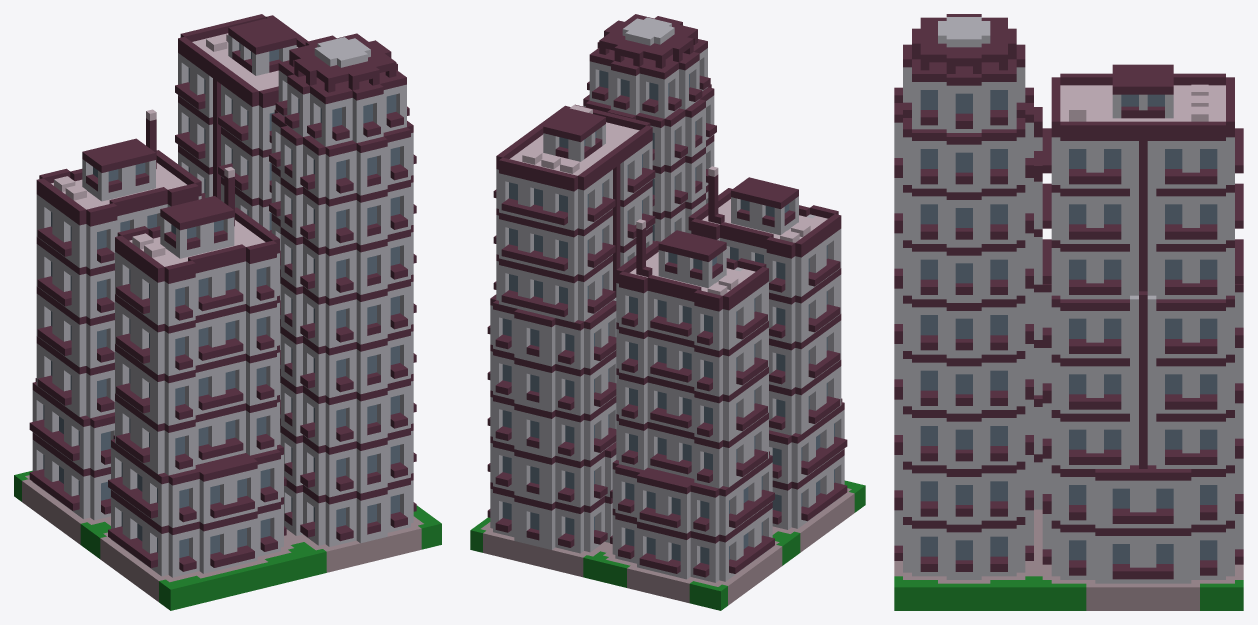
The model's file is CityBig.fbx.
3 views of the same model, side by side, from view 1: azimuth 30°, elevation 25°; view 2: azimuth 150°, elevation 25°; view 3: azimuth 270°, elevation 25° (orthographic). The views are drawn at different scales.
Parts seen in each view (by area): view 1: CityBig; view 2: CityBig; view 3: CityBig.
Boxes of the visible parts, x1,y1,x2,y2 form: CityBig: (14, 14, 441, 610); CityBig: (470, 14, 865, 610); CityBig: (894, 14, 1243, 610).
Size of the model in its own units: 4000 by 6900 by 4000.
